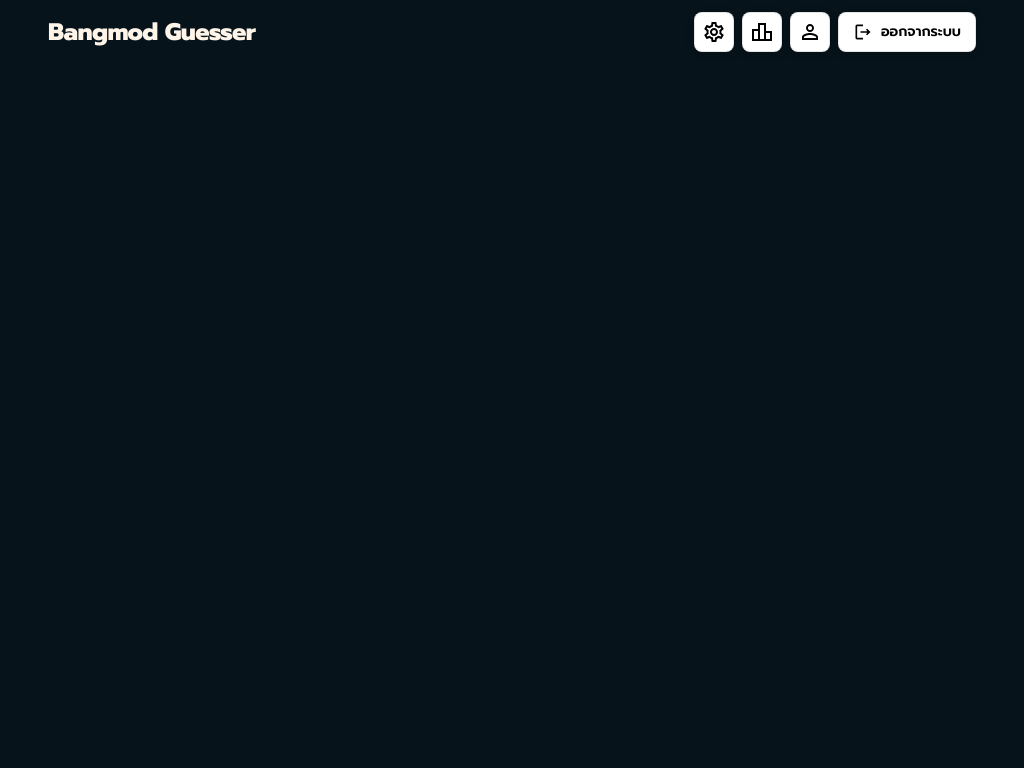
it: Navbar logout › opens settings modal when settings button is clicked and closes on cancel
Click the button named "ตั้งค่าเกม" at (714, 32), box [694,12,734,52]
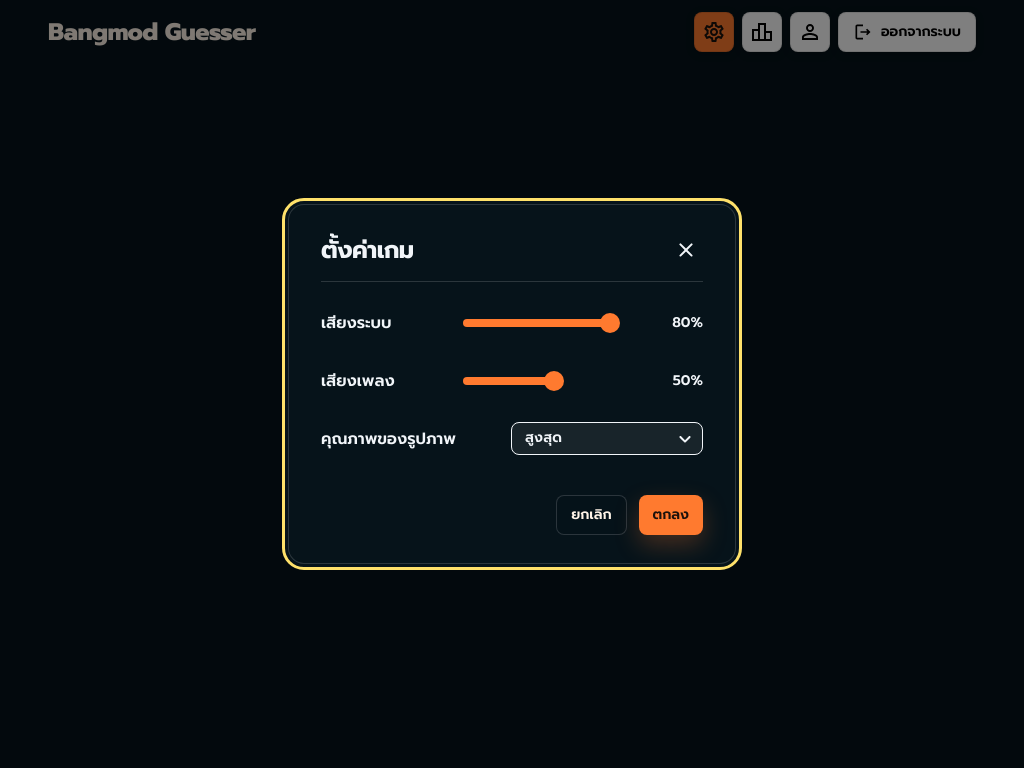
Check: the dialog is shown, box [288,204,736,564]
Check: the heading "ตั้งค่าเกม" is shown, box [321,234,414,266]
Click the button "ยกเลิก" at (591, 515), box [556,495,626,535]
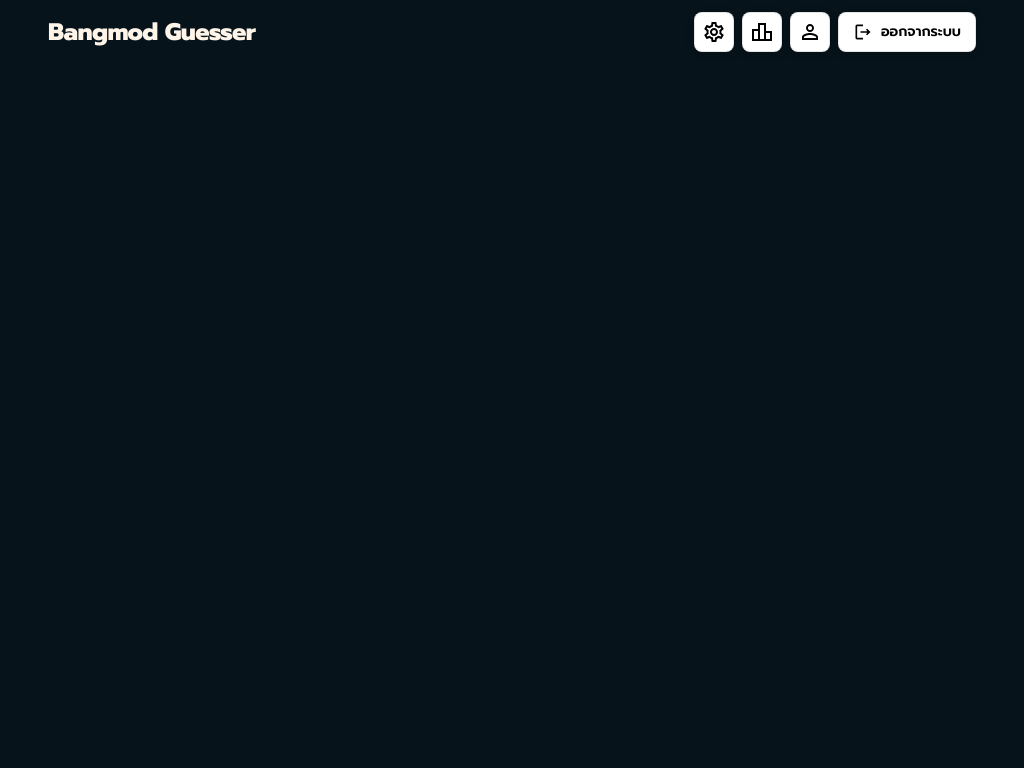
Check: the dialog is gone
